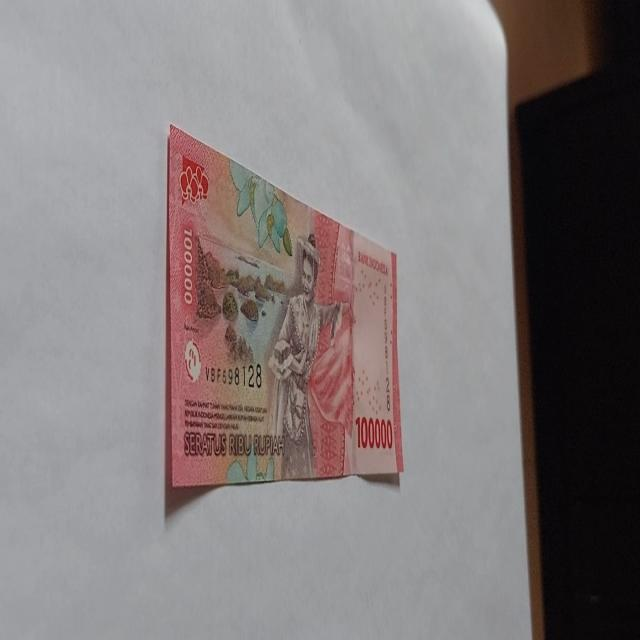seratus ribu rupiah: (165, 122, 404, 492), (267, 233, 355, 480)
